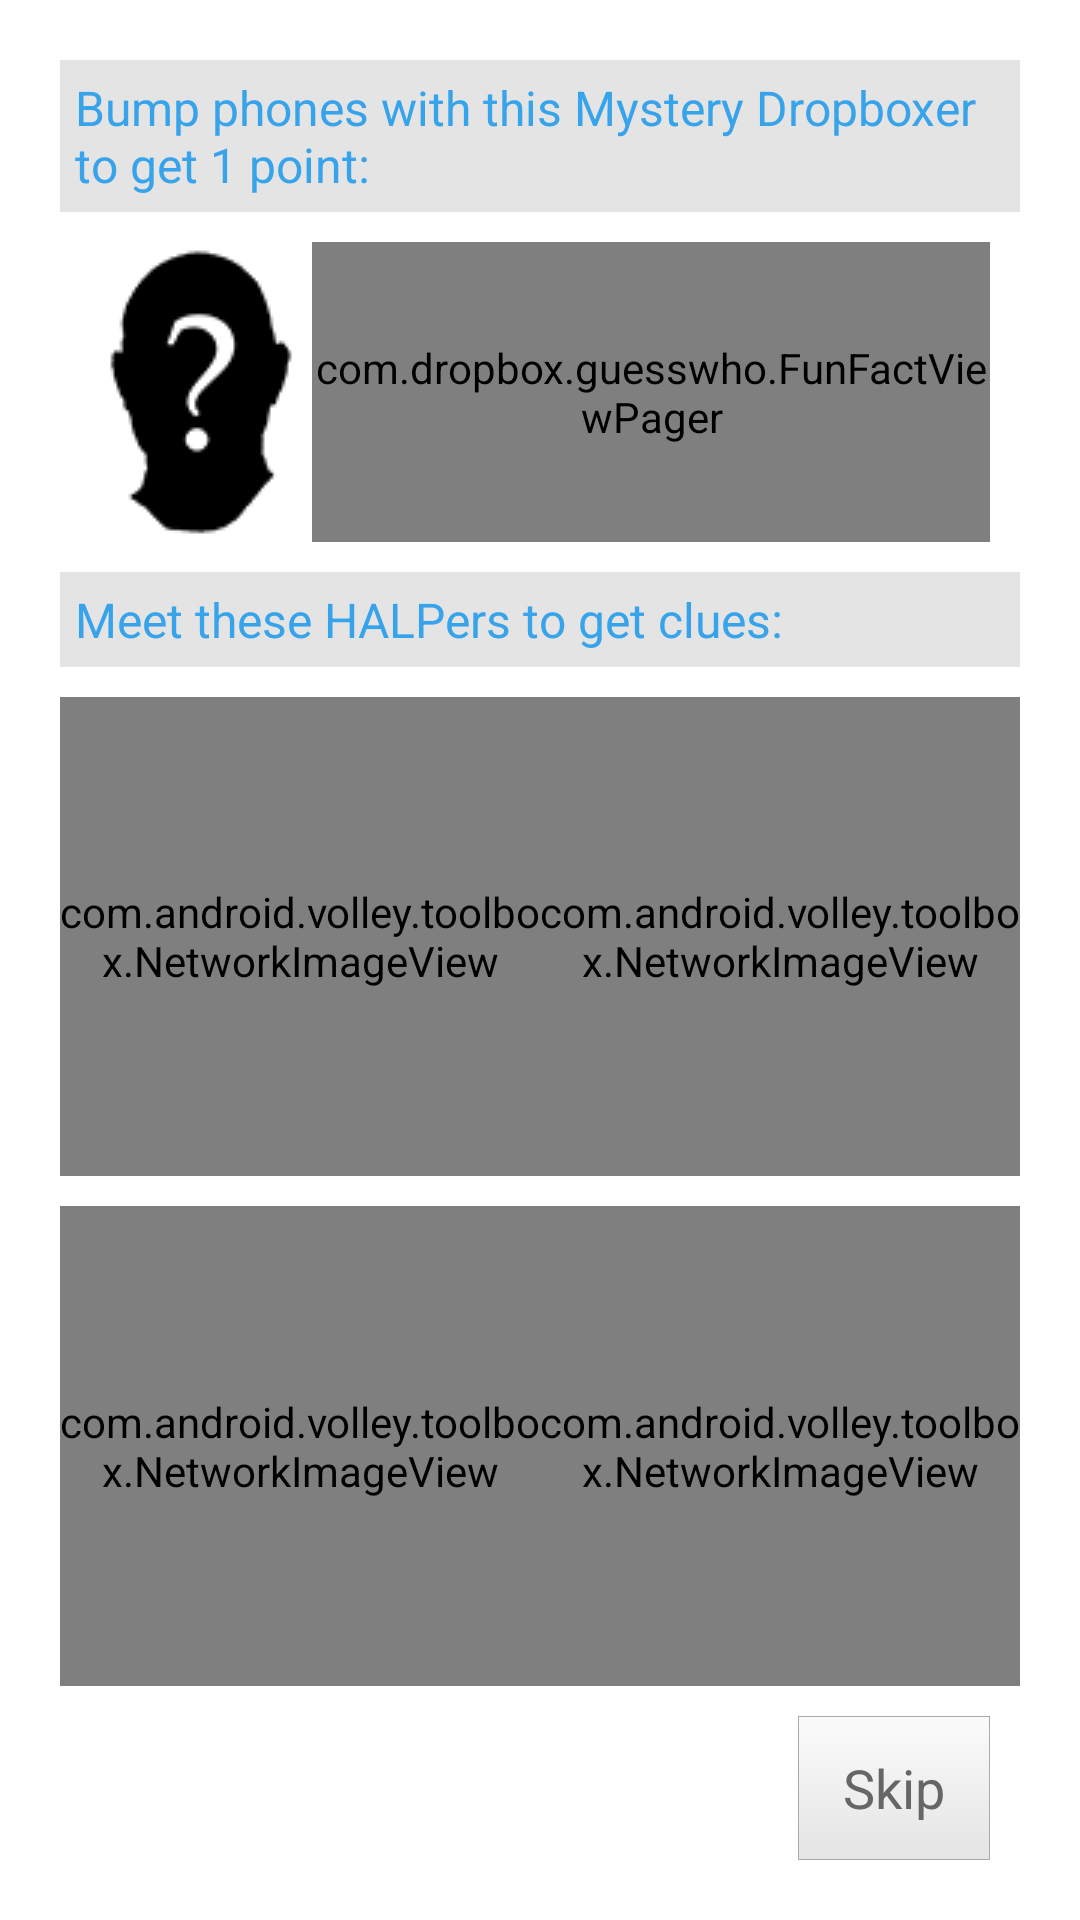

Icon bounding boxes for this 1080w x 1920h phone screenshot, format (x1, y1, x2, y2):
face silhouette: (110, 250, 292, 534)
